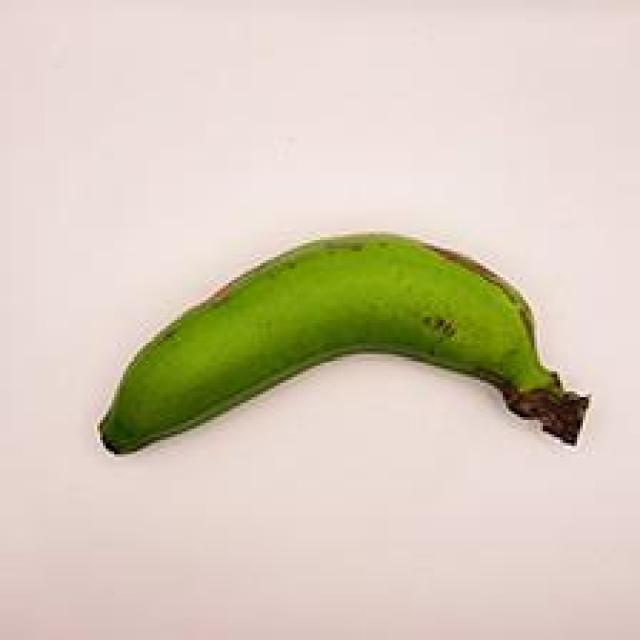Raw: (82, 228, 606, 498)
